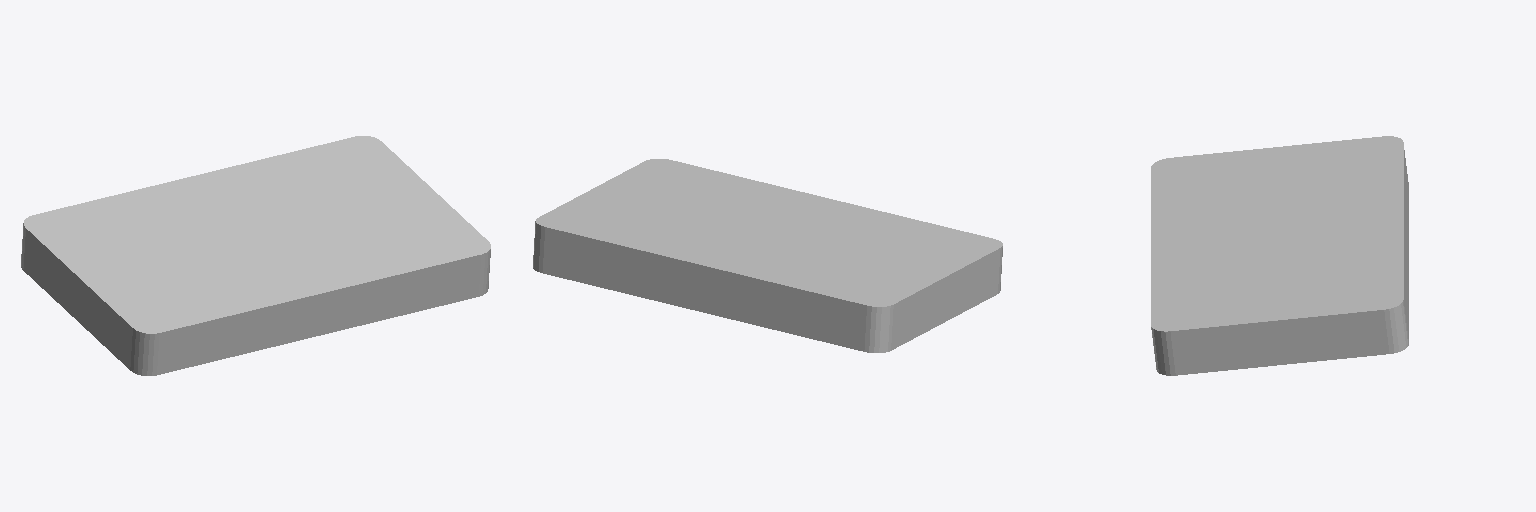
File: original-63.obj
The picture shows the model from 3 angles: view 1: azimuth 30°, elevation 25°; view 2: azimuth 150°, elevation 25°; view 3: azimuth 270°, elevation 25°; orthographic projection.
Visible parts, largest first — view 1: mesh62/mesh62-geometry#mesh62-geometry; view 2: mesh62/mesh62-geometry#mesh62-geometry; view 3: mesh62/mesh62-geometry#mesh62-geometry.
Part boxes in pixels (x1,y1,x2,y2): mesh62/mesh62-geometry#mesh62-geometry: (21,136,490,375); mesh62/mesh62-geometry#mesh62-geometry: (533,159,1002,352); mesh62/mesh62-geometry#mesh62-geometry: (1151,136,1408,375).
Bounding box in the file's own units: 0.1061 × 0.0199 × 0.0667.